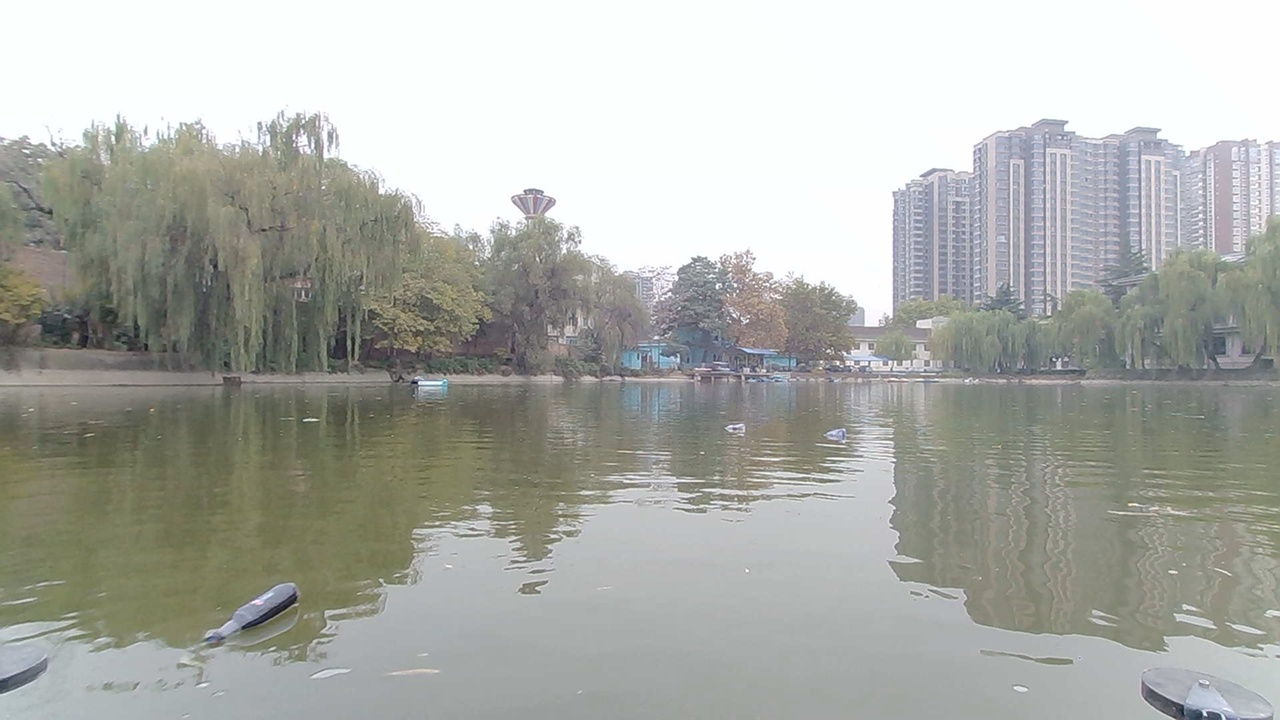bottle: (173, 564, 322, 661), (714, 410, 753, 436), (825, 428, 858, 445)
